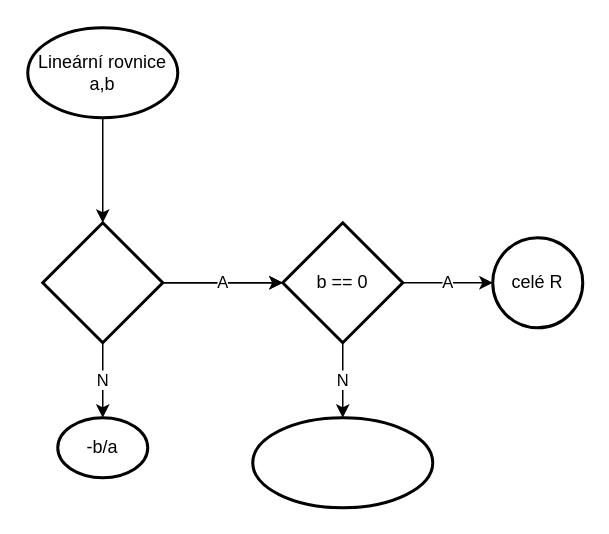
This 609x534 diagram has some shape labels left out. Here are the shapes that lost their labels. From the top down, the box of each, then its label:
(40, 220, 164, 344): a == 0
(250, 416, 434, 508): Nemá řešení
